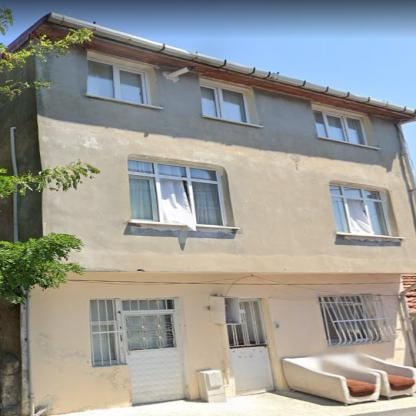door: (127, 314, 184, 403), (229, 300, 273, 393)
window: (130, 160, 224, 224), (318, 294, 378, 344), (332, 186, 390, 235), (88, 60, 146, 102), (318, 109, 368, 145), (92, 300, 118, 362), (204, 87, 248, 122), (123, 300, 172, 310)
